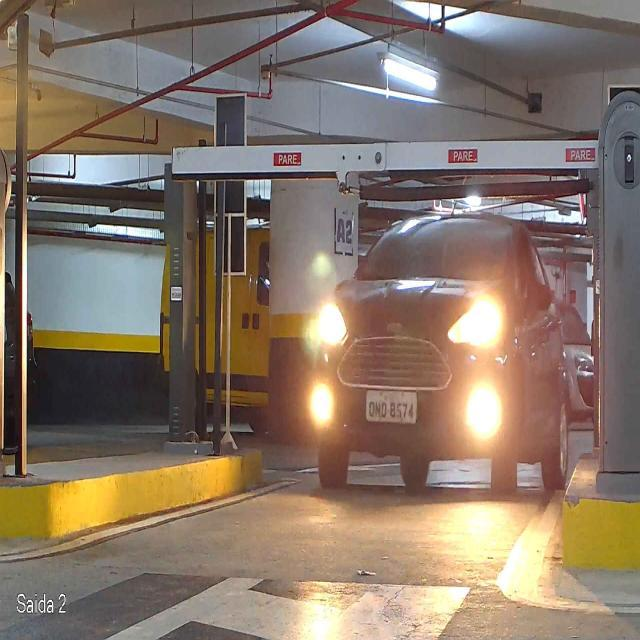old_plate: (363, 388, 420, 425)
